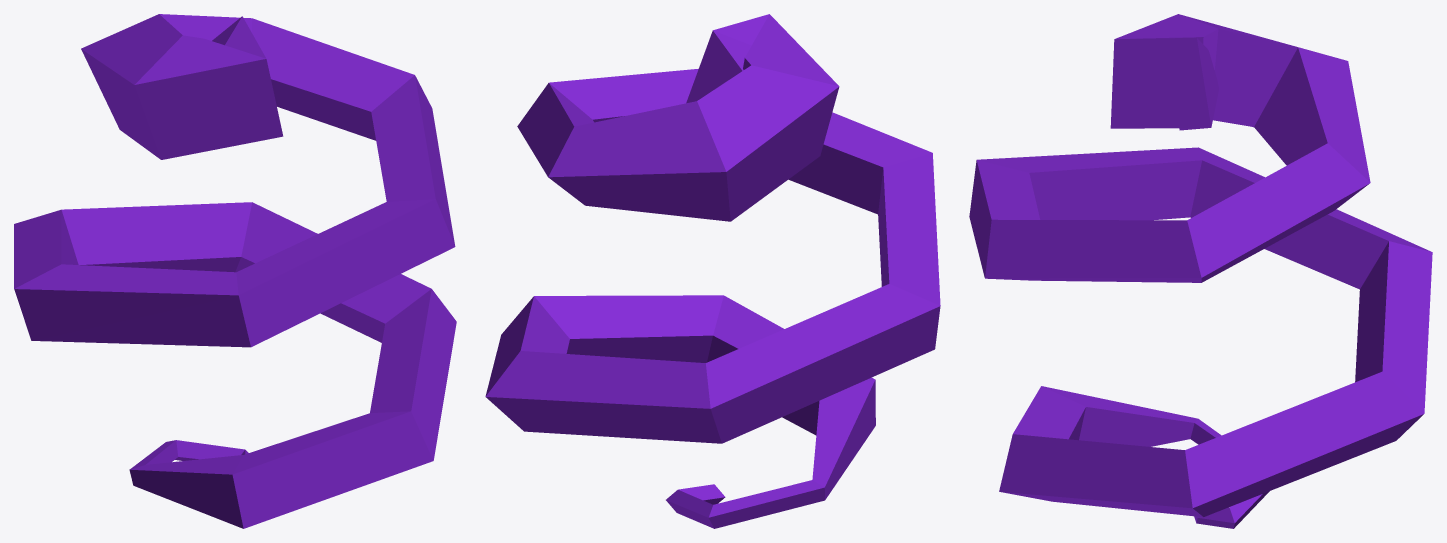
The picture shows the model from 3 angles, left to right: view 1: azimuth 30°, elevation 25°; view 2: azimuth 150°, elevation 25°; view 3: azimuth 270°, elevation 25°; orthographic projection. The views are drawn at different scales.
Visible parts, largest first — view 1: StunnedIcon_Material.001_0; view 2: StunnedIcon_Material.001_0; view 3: StunnedIcon_Material.001_0.
Boxes of the visible parts, bbox=[...] form: StunnedIcon_Material.001_0: bbox=[14, 14, 456, 528]; StunnedIcon_Material.001_0: bbox=[485, 14, 940, 528]; StunnedIcon_Material.001_0: bbox=[969, 14, 1432, 528].
Size of the model in its own units: 1.02 by 1.06 by 0.9119.
